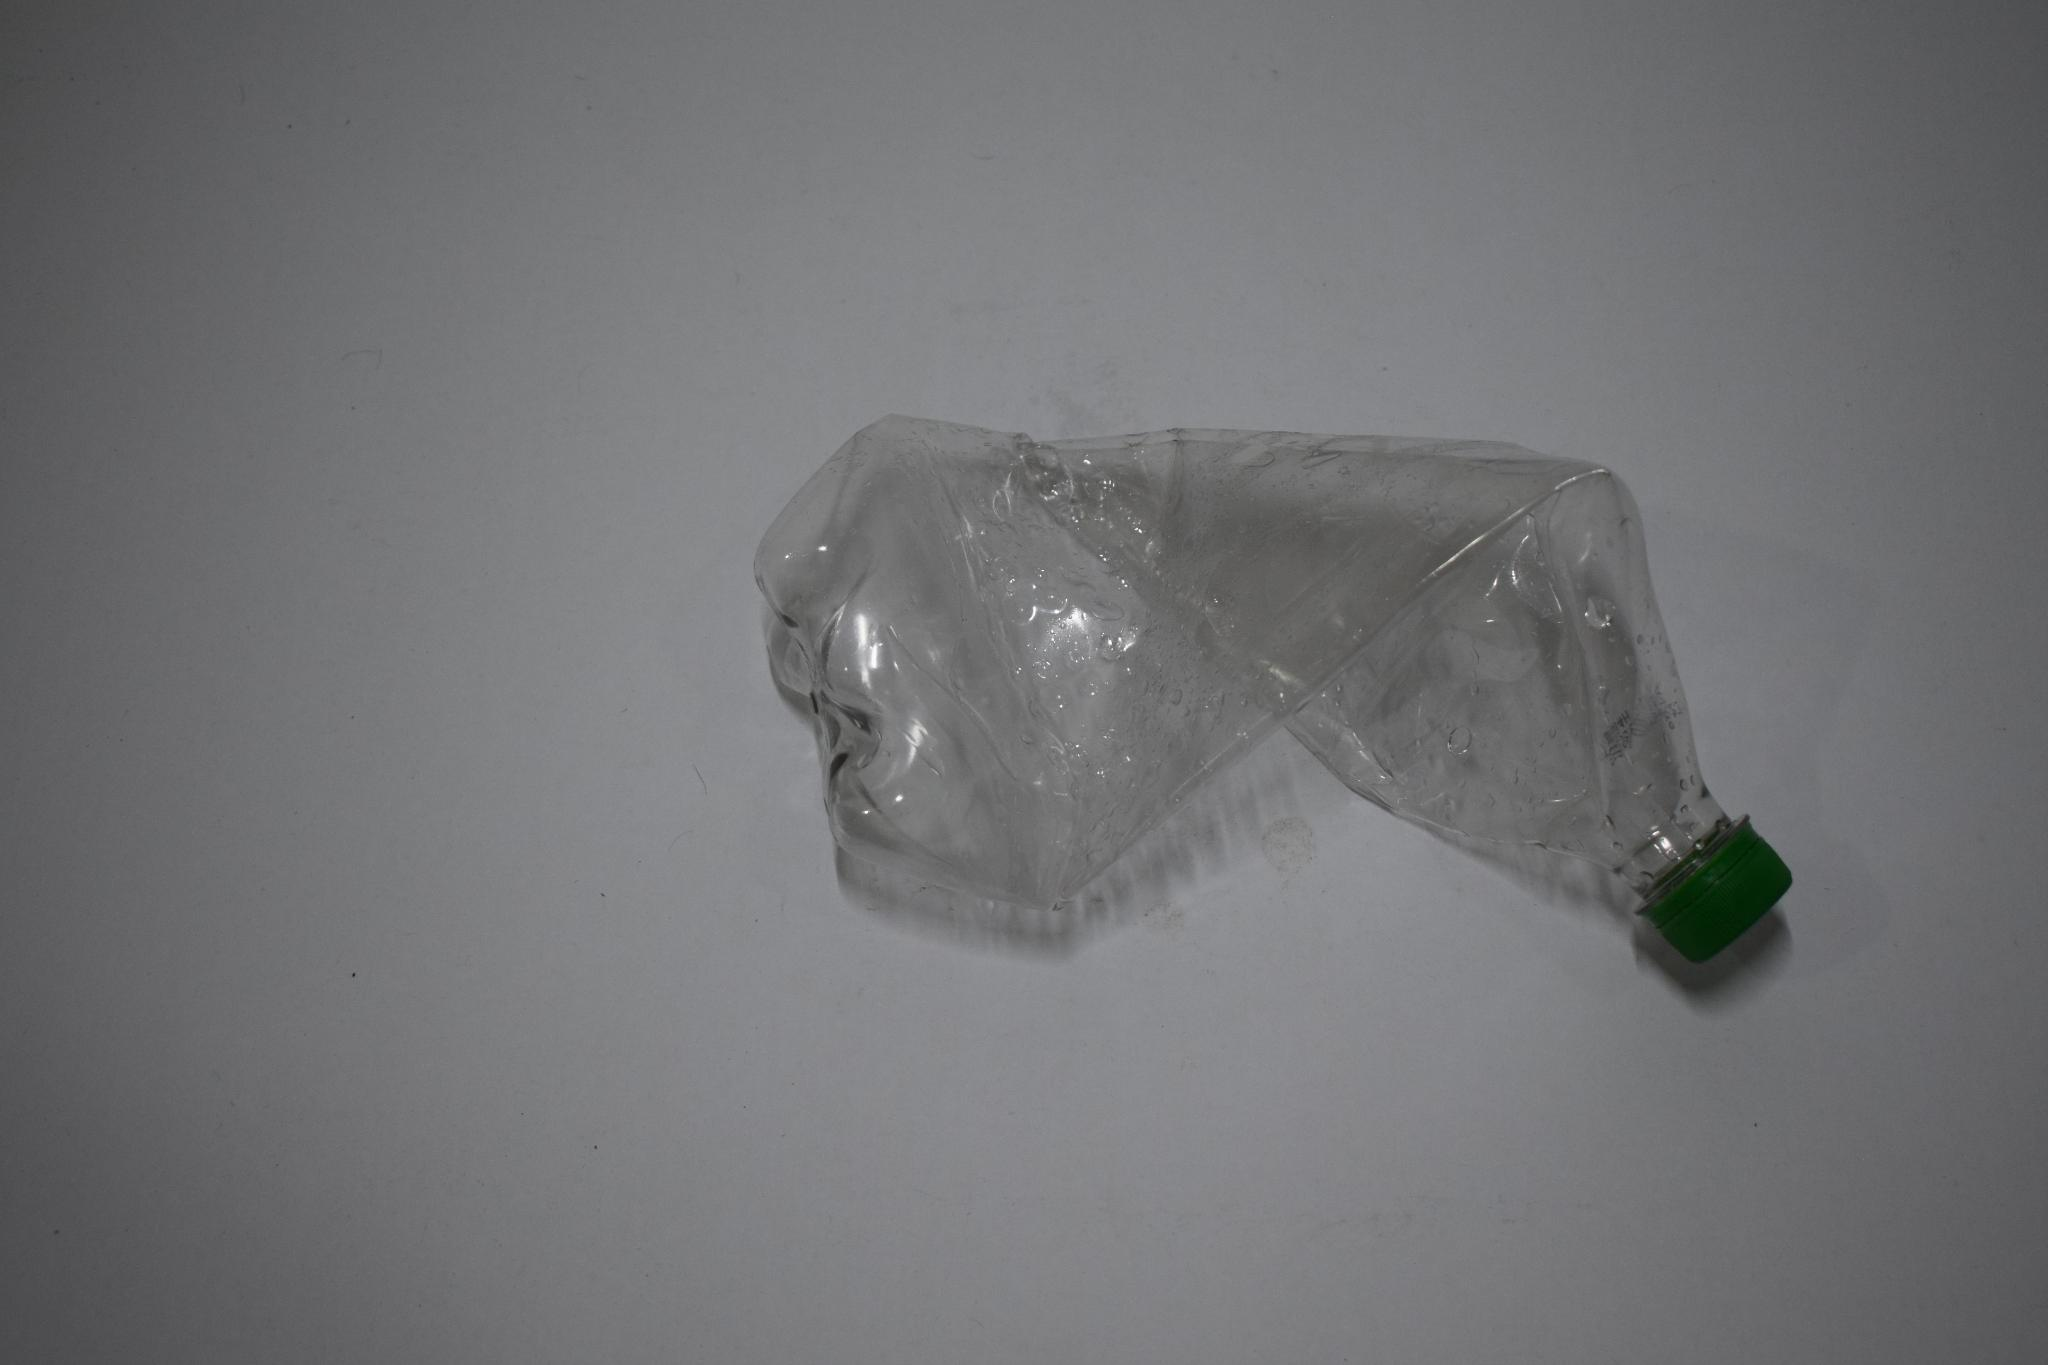bottle: (765, 369, 1805, 1075)
